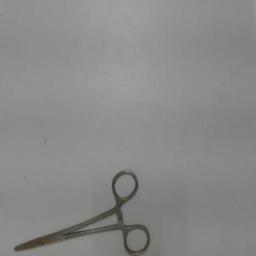Mayo Needle Holder: (9, 164, 155, 256)
